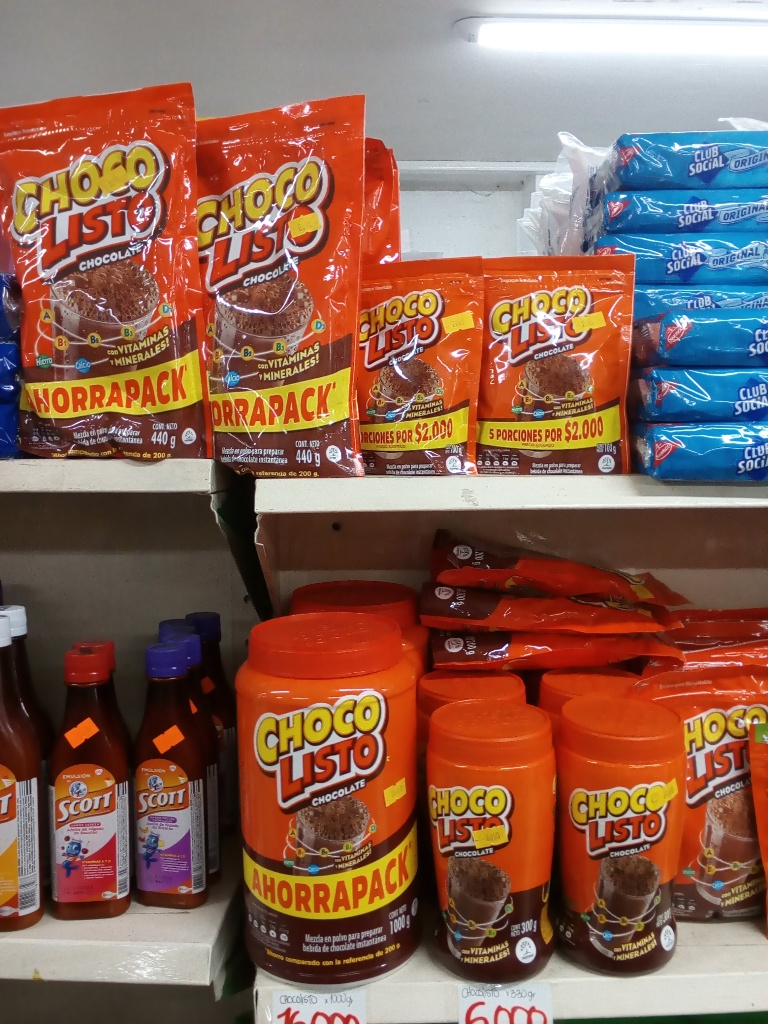COL0170103DYP44000: (3, 103, 204, 450)
COL0170103TRR00100: (224, 613, 425, 972)
